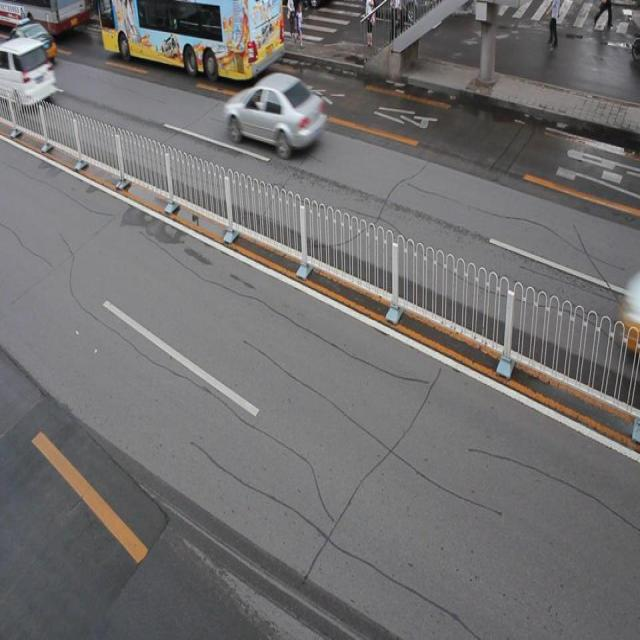car: (224, 72, 325, 158), (8, 20, 56, 70)
truck: (1, 38, 58, 107)
van: (98, 1, 284, 81)
